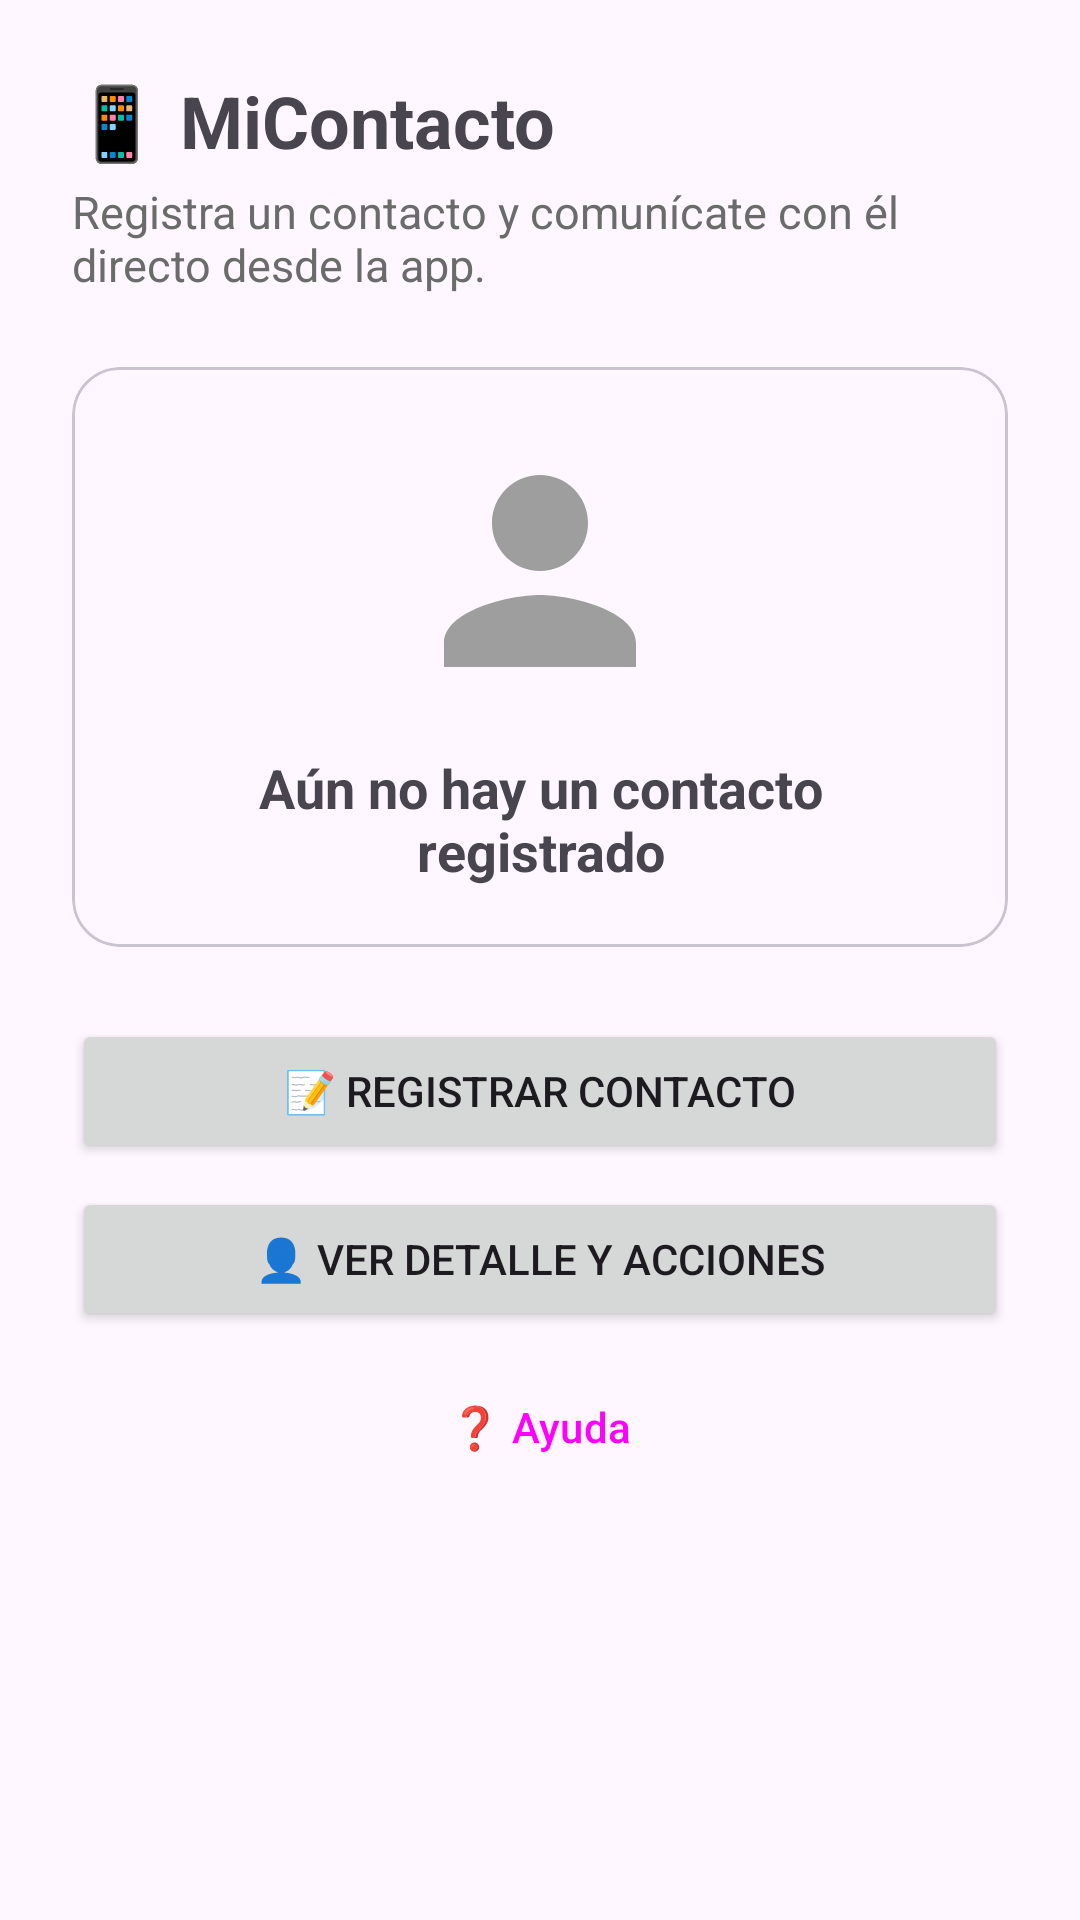

Icons on this 1080*1920 Android screen, each with the point to tap as [x,y]:
Foto del contacto: [540,571]
